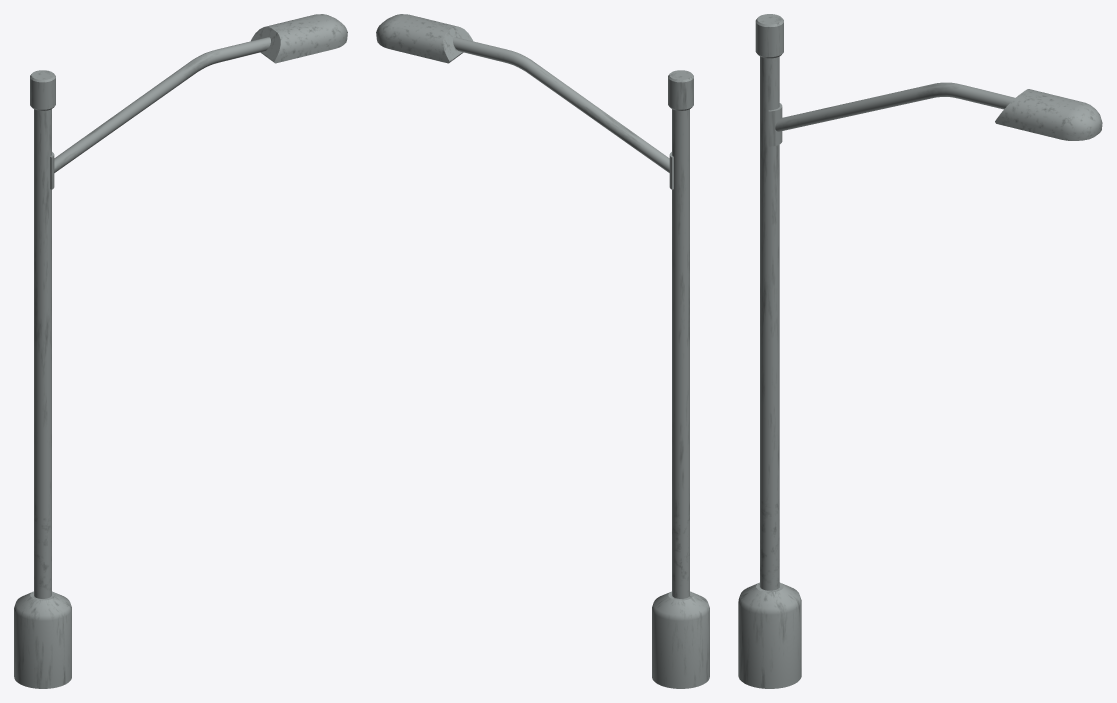
File: Street_Light.glb
3 renders of one model, left to right at view 1: azimuth 30°, elevation 25°; view 2: azimuth 150°, elevation 25°; view 3: azimuth 330°, elevation 25°, orthographic. The views are drawn at different scales.
Visible parts, largest first — view 1: Object_5; view 2: Object_5; view 3: Object_5.
Part boxes in pixels (bbox=[...]): Object_5: bbox=[14, 14, 347, 688]; Object_5: bbox=[376, 14, 709, 688]; Object_5: bbox=[738, 14, 1102, 688].
Size of the model in its own units: 2.12 by 3.74 by 0.3273.
1 material, 1 textured.
